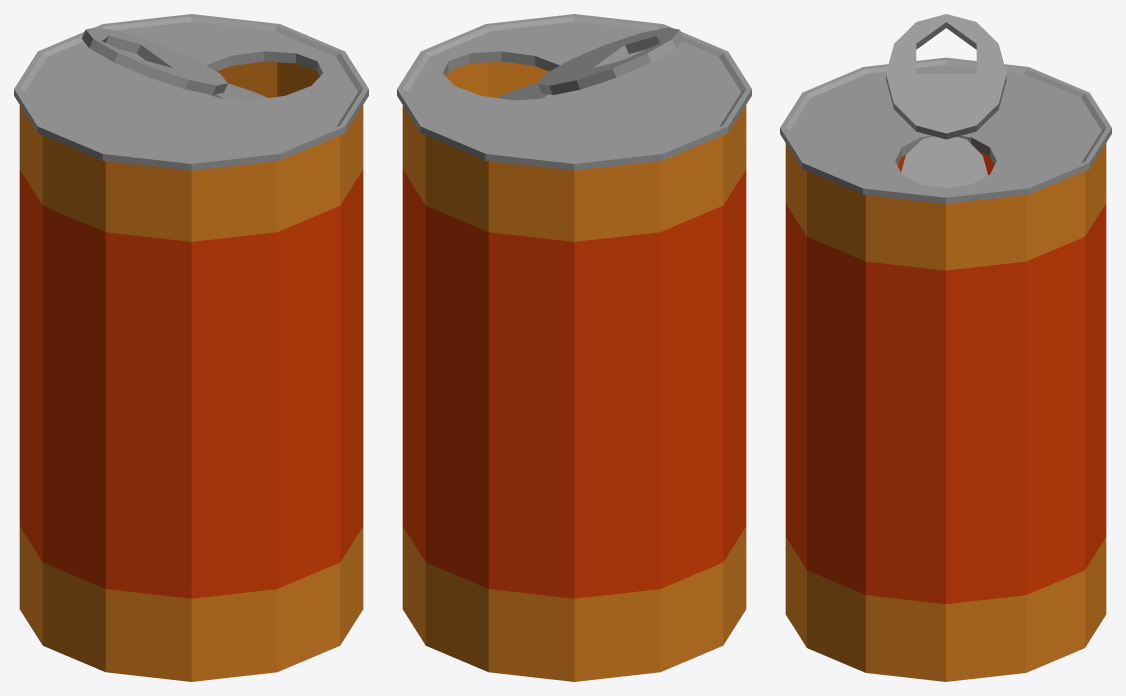
The model's file is Soda_Can.fbx.
3 renders of one model, left to right at view 1: azimuth 30°, elevation 25°; view 2: azimuth 150°, elevation 25°; view 3: azimuth 270°, elevation 25°, orthographic. The views are drawn at different scales.
Visible parts, largest first — view 1: Soda_Can; view 2: Soda_Can; view 3: Soda_Can.
Boxes of the visible parts, box(x1,y1,x2,y2) form: Soda_Can: box(14, 14, 368, 681); Soda_Can: box(397, 14, 751, 681); Soda_Can: box(780, 14, 1111, 681).
Size of the model in its own units: 30.07 by 55.56 by 30.07.
